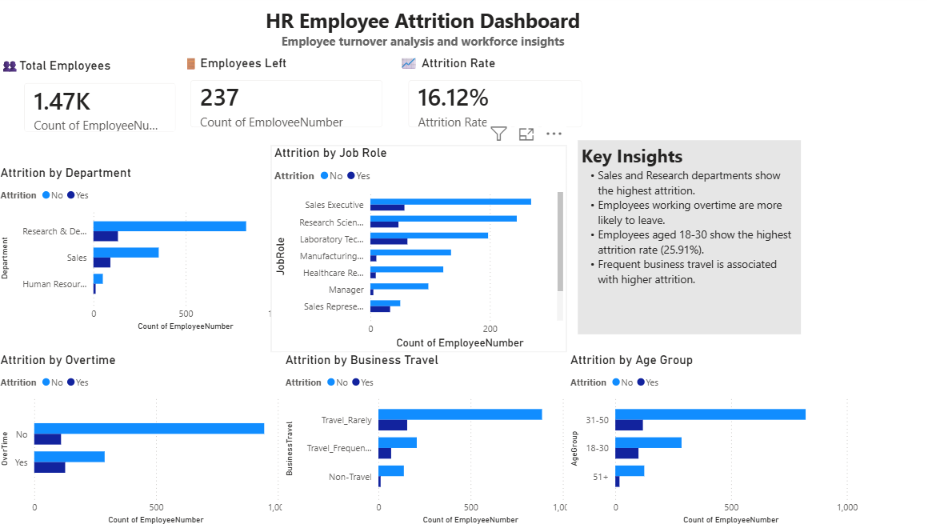

The page's visual inventory and layout, read from the dashboard file:
{"tool":"powerbi","page":{"name":"Page 1","canvas":[1280,720],"ordinal":0},"visuals":[{"type":"cardVisual","title":"👥Total Employees","fields":{"Data":["CountNonNull(Raw_Data.EmployeeNumber)"]},"box":[0,81.1,279.8,121.7],"z":0},{"type":"cardVisual","title":"🚪Employees Left","fields":{"Data":["CountNonNull(Raw_Data.EmployeeNumber)"]},"box":[244.7,77.1,294.7,119],"z":1000},{"type":"cardVisual","title":"📈 Attrition Rate","fields":{"Data":["Raw_Data.Attrition Rate"]},"box":[539.4,77.1,269,119],"z":2000},{"type":"clusteredBarChart","title":"Attrition by Department","fields":{"Category":["Raw_Data.Department"],"Y":["CountNonNull(Raw_Data.EmployeeNumber)"],"Series":["Raw_Data.Attrition"]},"box":[0,229.8,400.2,228.5],"z":3000},{"type":"clusteredBarChart","title":"Attrition by Job Role","fields":{"Category":["Raw_Data.JobRole"],"Y":["CountNonNull(Raw_Data.EmployeeNumber)"],"Series":["Raw_Data.Attrition"]},"box":[370.4,202.8,400.2,279.8],"z":4000},{"type":"clusteredBarChart","title":"Attrition by Overtime","fields":{"Category":["Raw_Data.OverTime"],"Y":["CountNonNull(Raw_Data.EmployeeNumber)"],"Series":["Raw_Data.Attrition"]},"box":[0,482.6,400.2,237.9],"z":5000},{"type":"clusteredBarChart","title":"Attrition by Business Travel","fields":{"Category":["Raw_Data.BusinessTravel"],"Y":["CountNonNull(Raw_Data.EmployeeNumber)"],"Series":["Raw_Data.Attrition"]},"box":[385.3,482.6,400.2,237.9],"z":6000},{"type":"clusteredBarChart","title":"Attrition by Age Group","fields":{"Category":["Raw_Data.AgeGroup"],"Series":["Raw_Data.Attrition"],"Y":["CountNonNull(Raw_Data.EmployeeNumber)"]},"box":[770.6,482.6,398.8,237.9],"z":7000},{"type":"textbox","box":[785.5,196,301.5,262.3],"z":8000},{"type":"textbox","box":[843.6,0,263.6,10.8],"z":9000},{"type":"textbox","box":[102.7,10.8,946.3,74.4],"z":10000}]}

Visuals, with their boxes in screenshot pixels (x1, y1, x2, y2), scaled from the page's 1280x720 canvas onto the 927x527 screenshot:
"👥Total Employees" cardVisual: 0, 59, 203, 148
"🚪Employees Left" cardVisual: 177, 56, 391, 144
"📈 Attrition Rate" cardVisual: 391, 56, 585, 144
"Attrition by Department" clusteredBarChart: 0, 168, 290, 335
"Attrition by Job Role" clusteredBarChart: 268, 148, 558, 353
"Attrition by Overtime" clusteredBarChart: 0, 353, 290, 526
"Attrition by Business Travel" clusteredBarChart: 279, 353, 569, 526
"Attrition by Age Group" clusteredBarChart: 558, 353, 847, 526
textbox: 569, 143, 787, 335
textbox: 611, 0, 802, 8
textbox: 74, 8, 760, 62
